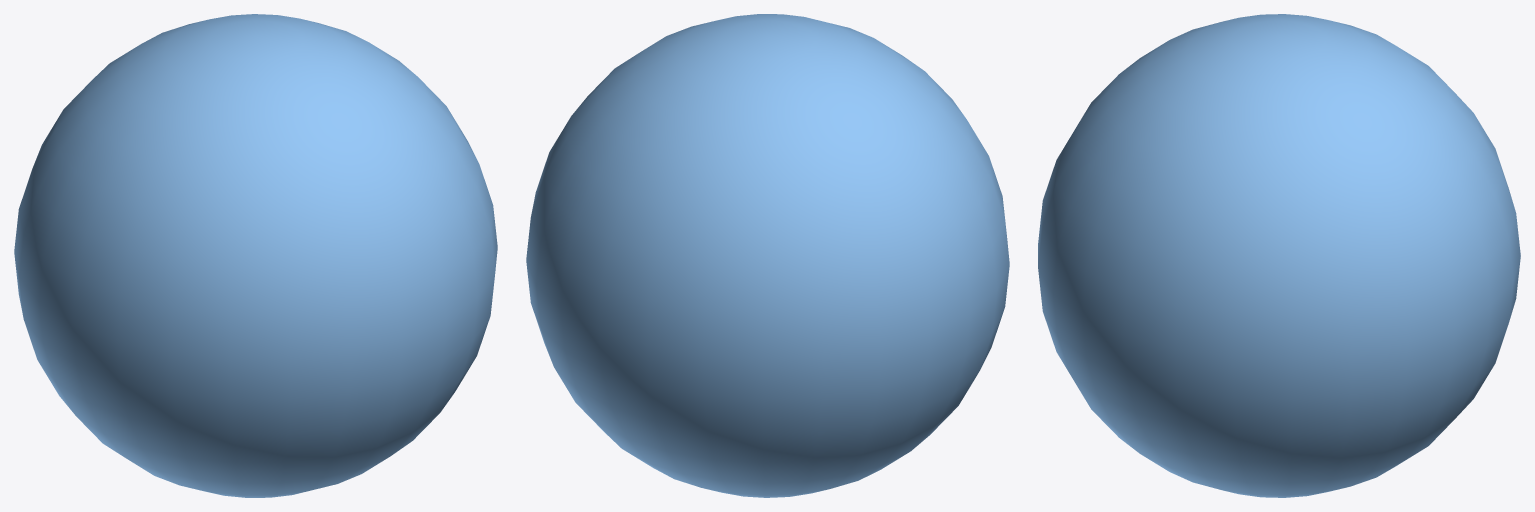
Rendered from Hydrogen.glb.
3 renders of one model, left to right at view 1: azimuth 30°, elevation 25°; view 2: azimuth 150°, elevation 25°; view 3: azimuth 270°, elevation 25°, orthographic.
Visible parts, largest first — view 1: Sphere; view 2: Sphere; view 3: Sphere.
Boxes of the visible parts, x1=… form: Sphere: x1=14, y1=14, x2=497, y2=497; Sphere: x1=526, y1=14, x2=1009, y2=497; Sphere: x1=1038, y1=14, x2=1520, y2=497.
Bounding box in the file's own units: 0.3992 × 0.4 × 0.3984.
